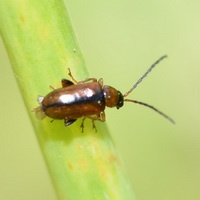insect: (32, 55, 174, 132)
